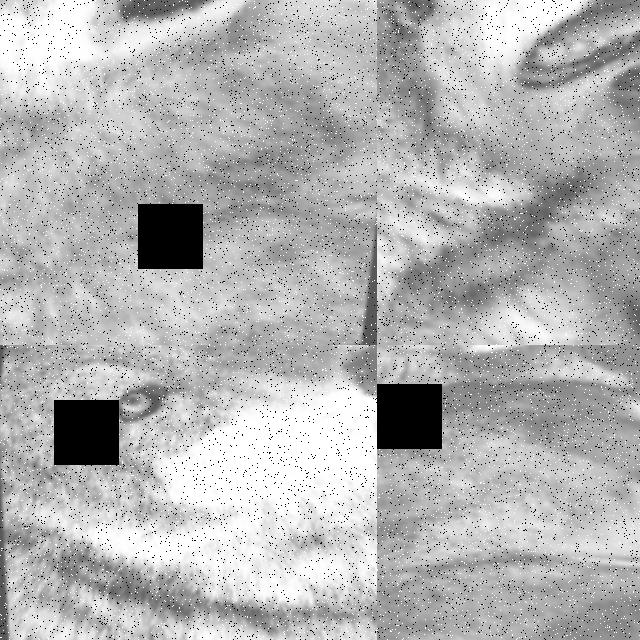wolf: (0, 0, 377, 345), (0, 345, 377, 640), (377, 0, 640, 345), (377, 345, 640, 640)
